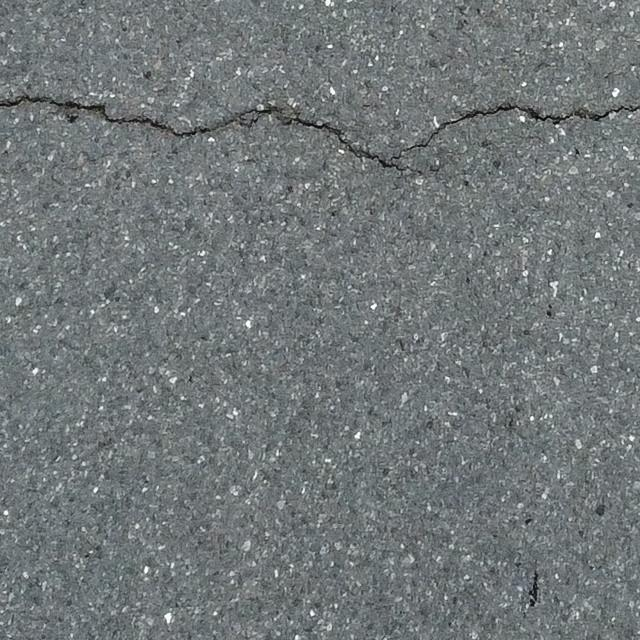TransverseCrack: (1, 94, 640, 171)
